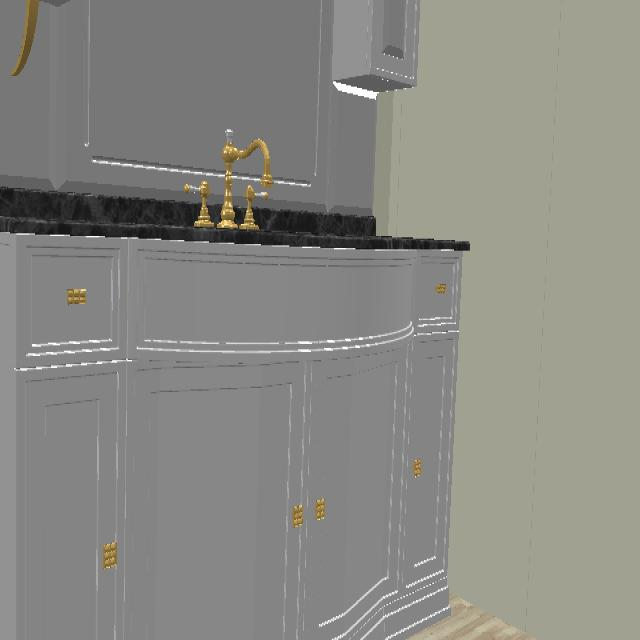cabinet: (0, 188, 462, 640), (332, 0, 422, 99)
sink: (220, 129, 272, 229), (184, 180, 213, 227)
